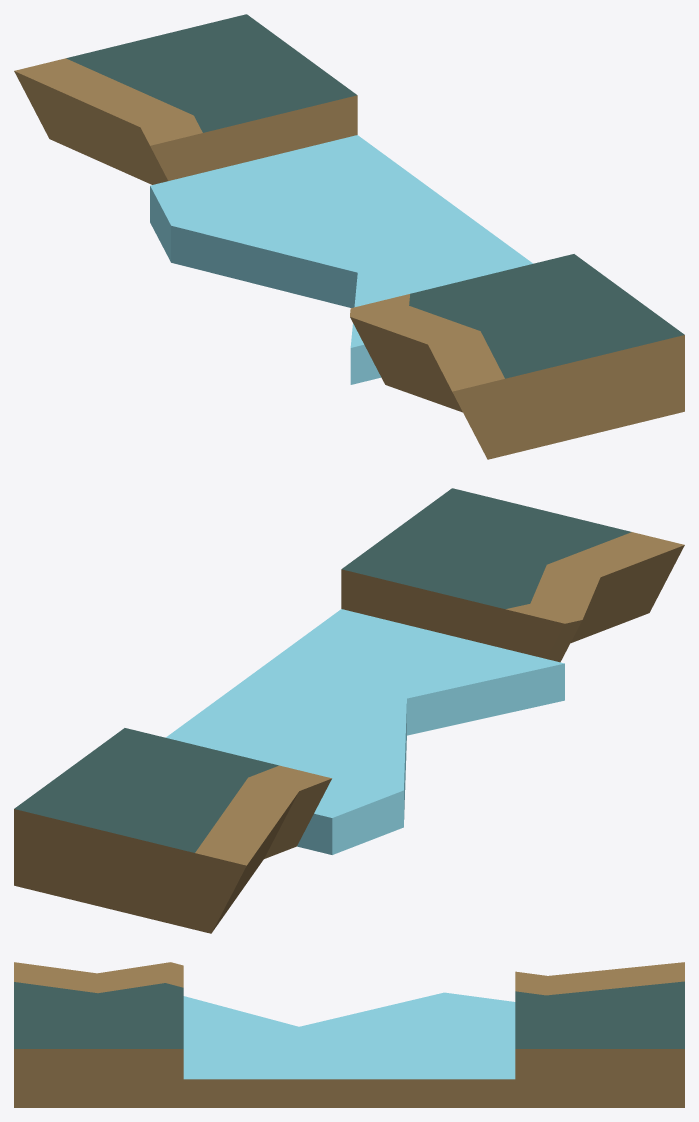
The model's file is Brown_Waterfall_Top_01.fbx.
3 views of the same model, one above another, from view 1: azimuth 30°, elevation 25°; view 2: azimuth 150°, elevation 25°; view 3: azimuth 270°, elevation 25° (orthographic). The views are drawn at different scales.
Parts seen in each view (by area): view 1: Mesh1_Brown_Waterfall_Top Model; view 2: Mesh1_Brown_Waterfall_Top Model; view 3: Mesh1_Brown_Waterfall_Top Model.
Boxes of the visible parts, x1,y1,x2,y2 form: Mesh1_Brown_Waterfall_Top Model: (14, 14, 684, 459); Mesh1_Brown_Waterfall_Top Model: (14, 488, 684, 933); Mesh1_Brown_Waterfall_Top Model: (14, 962, 684, 1107).
Bounding box in the file's own units: 0.92 × 0.29 × 3.
